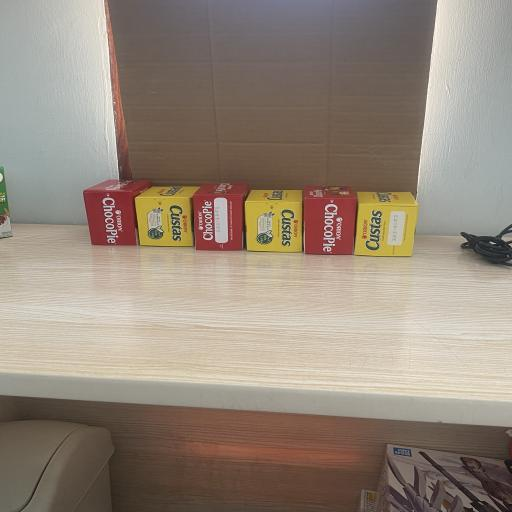chocopie: (82, 179, 152, 245), (192, 182, 250, 250), (302, 185, 357, 254)
custas: (354, 192, 418, 256), (134, 186, 200, 246), (244, 190, 303, 252)
